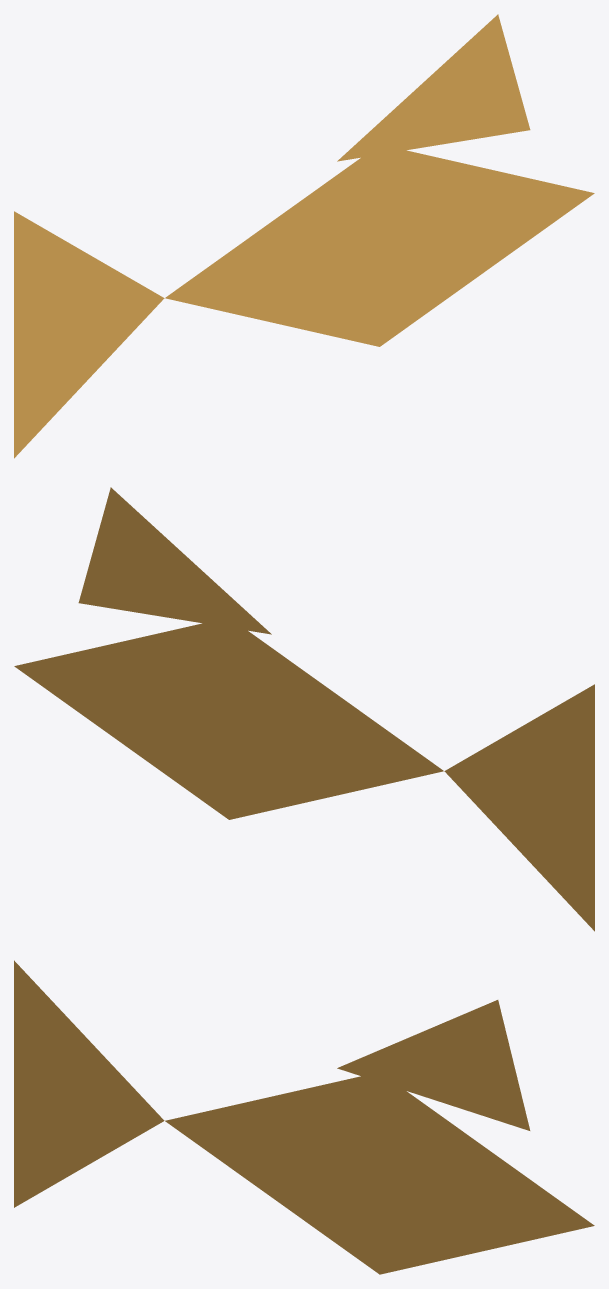
Rendered from base-cichlid.gltf.
3 renders of one model, top to bottom at view 1: azimuth 30°, elevation 25°; view 2: azimuth 150°, elevation 25°; view 3: azimuth 330°, elevation 25°, orthographic.
Visible parts, largest first — view 1: base-cichlid; view 2: base-cichlid; view 3: base-cichlid.
Part boxes in pixels (<box>): base-cichlid: <box>14,14,594,458</box>; base-cichlid: <box>14,487,594,931</box>; base-cichlid: <box>14,960,594,1274</box>.
Bounding box in the file's own units: 2.7 × 1.45 × 0.
